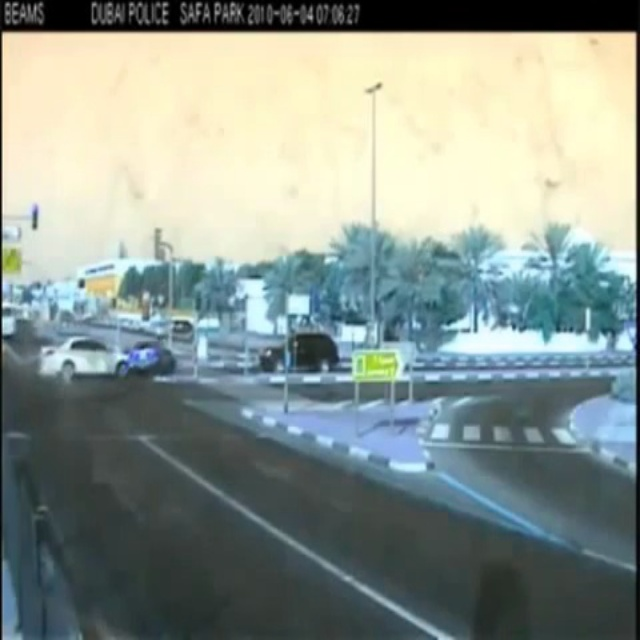acc: (28, 323, 185, 404)
